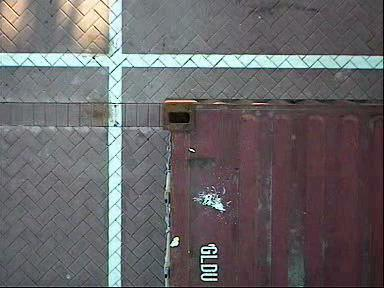groundmarker_2: (24, 153, 90, 269)
